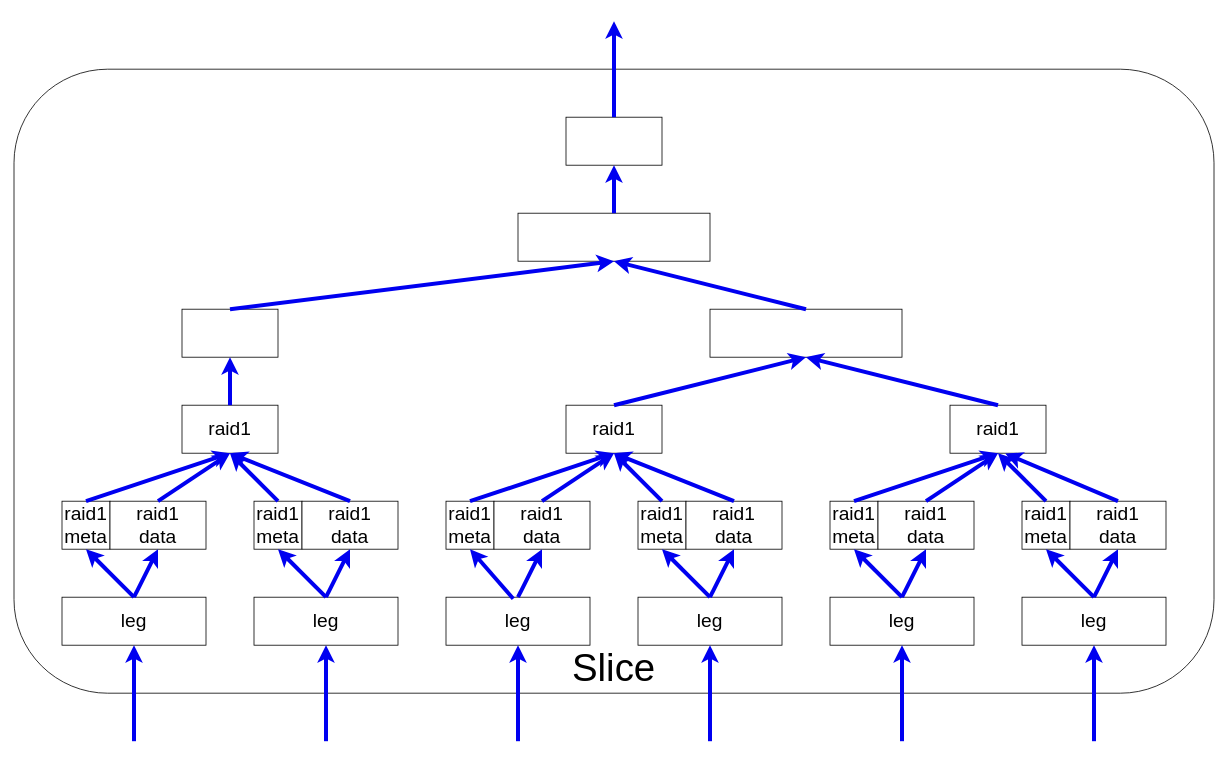
Image size: 1228x763. Some labels were removed from this diagram. Each missing label, with the centre of its shape:
"pool data" belongs at pixel 805 332.
"pool meta" belongs at pixel 229 332.
"thin device" belongs at pixel 613 140.
"thin pool" belongs at pixel 613 236.
